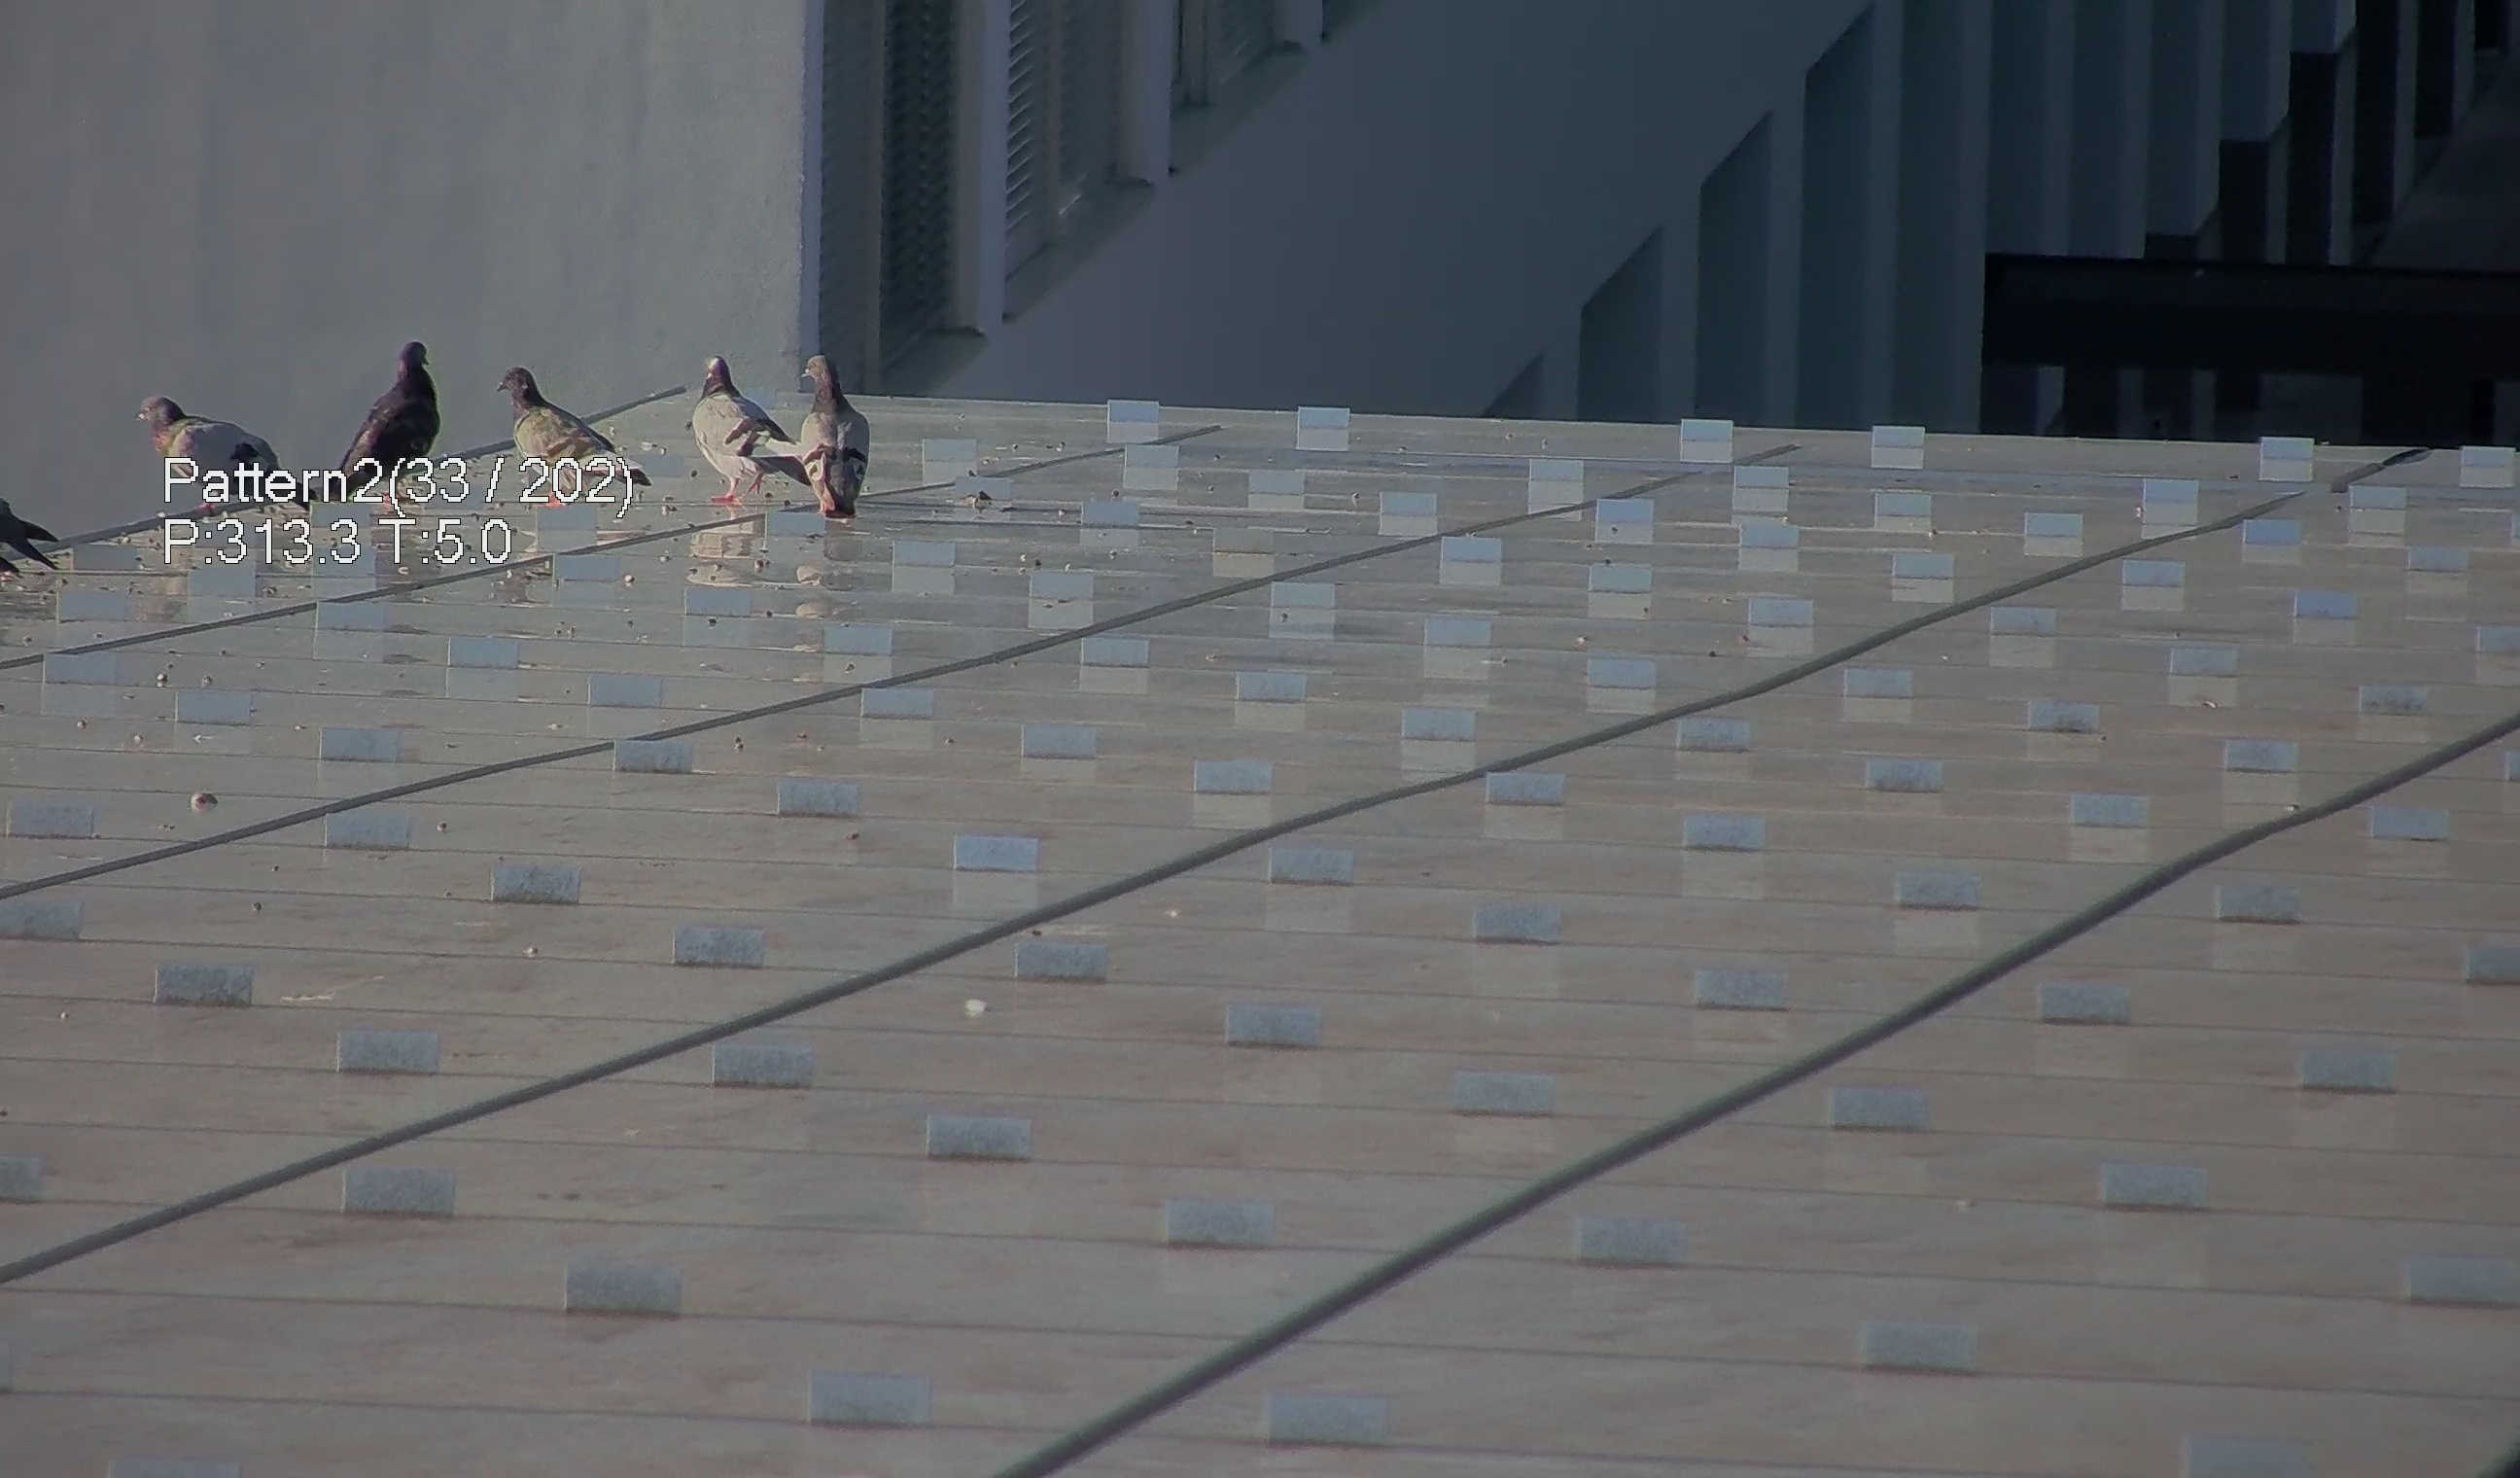Pigeon: (475, 352, 647, 500), (670, 343, 790, 509), (130, 380, 308, 491), (310, 334, 433, 493), (770, 340, 870, 514)
